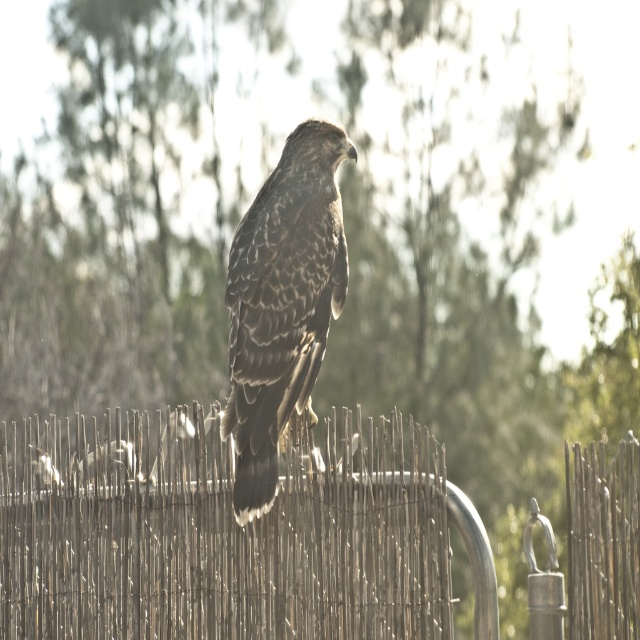Eagle: (219, 115, 359, 533)
